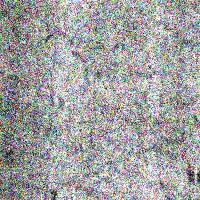crazing: (3, 13, 198, 93), (125, 91, 199, 165)
